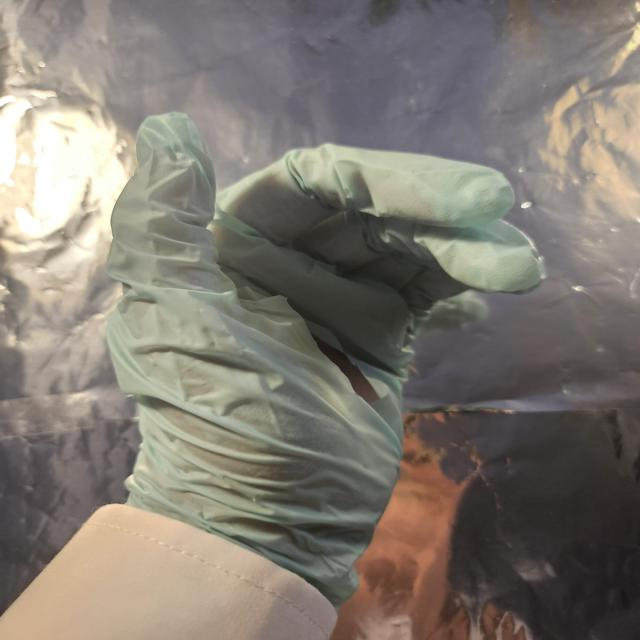gloves_damaged: (108, 105, 550, 602)
